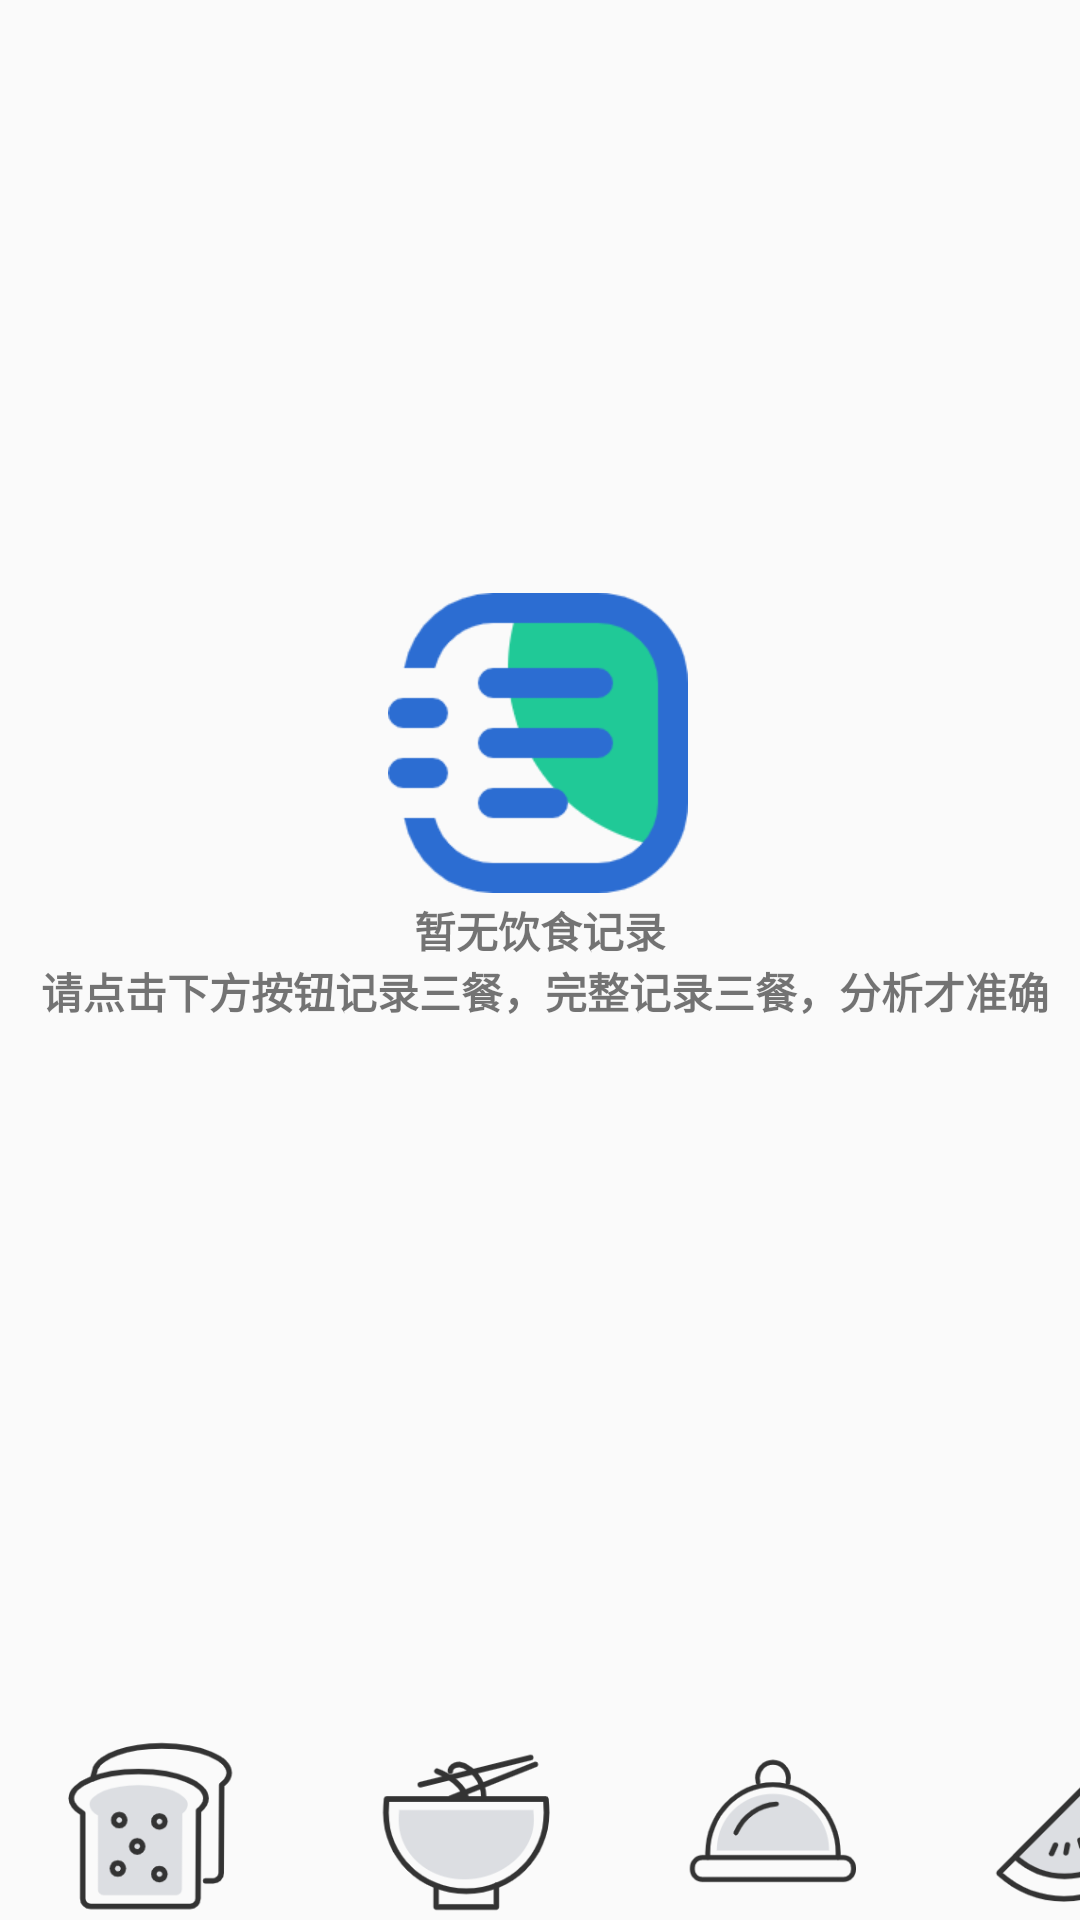

Icon click points for this 1080×1920 phone screenshot, format (x=x, y=y):
breakfast: (x=150, y=1826)
dinner: (x=772, y=1821)
lunch: (x=466, y=1832)
